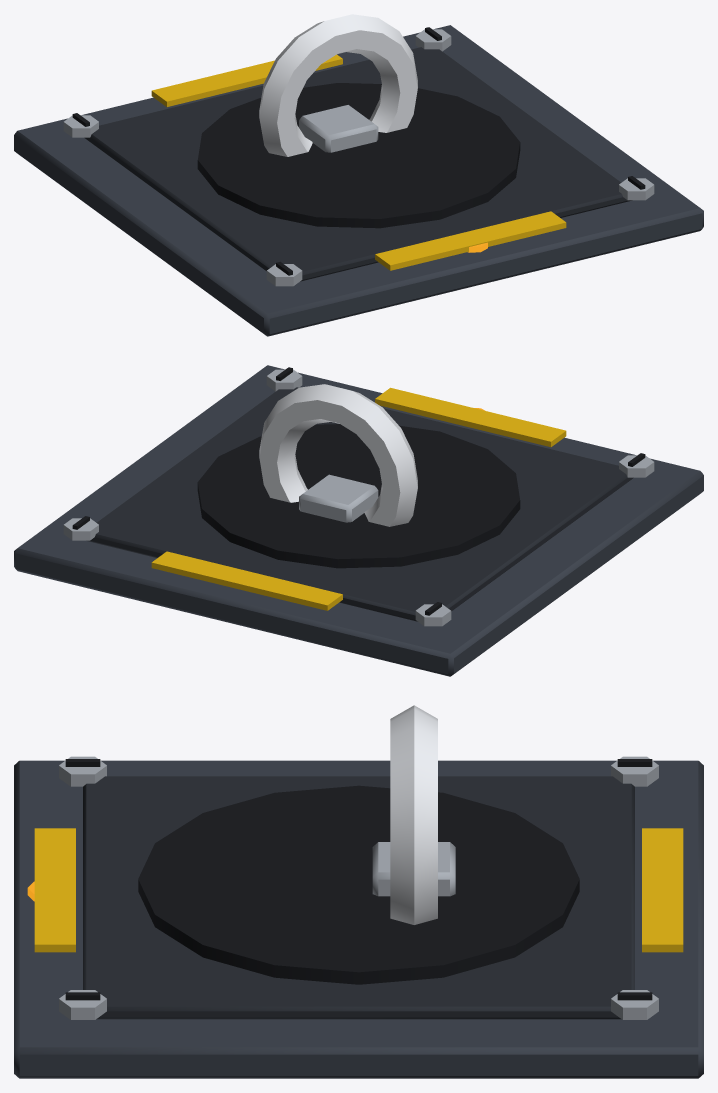
File: hangartool_mooring_ring.glb
3 views of the same model, one above another, from view 1: azimuth 30°, elevation 25°; view 2: azimuth 150°, elevation 25°; view 3: azimuth 270°, elevation 25° (orthographic). The views are drawn at different scales.
Visible parts, largest first — view 1: hangartool_mooring_ring; view 2: hangartool_mooring_ring; view 3: hangartool_mooring_ring.
Part boxes in pixels (x1,y1,x2,y2): hangartool_mooring_ring: (14,14,703,336); hangartool_mooring_ring: (14,365,703,676); hangartool_mooring_ring: (14,705,703,1078).
Bounding box in the file's own units: 1 × 0.3545 × 1.
